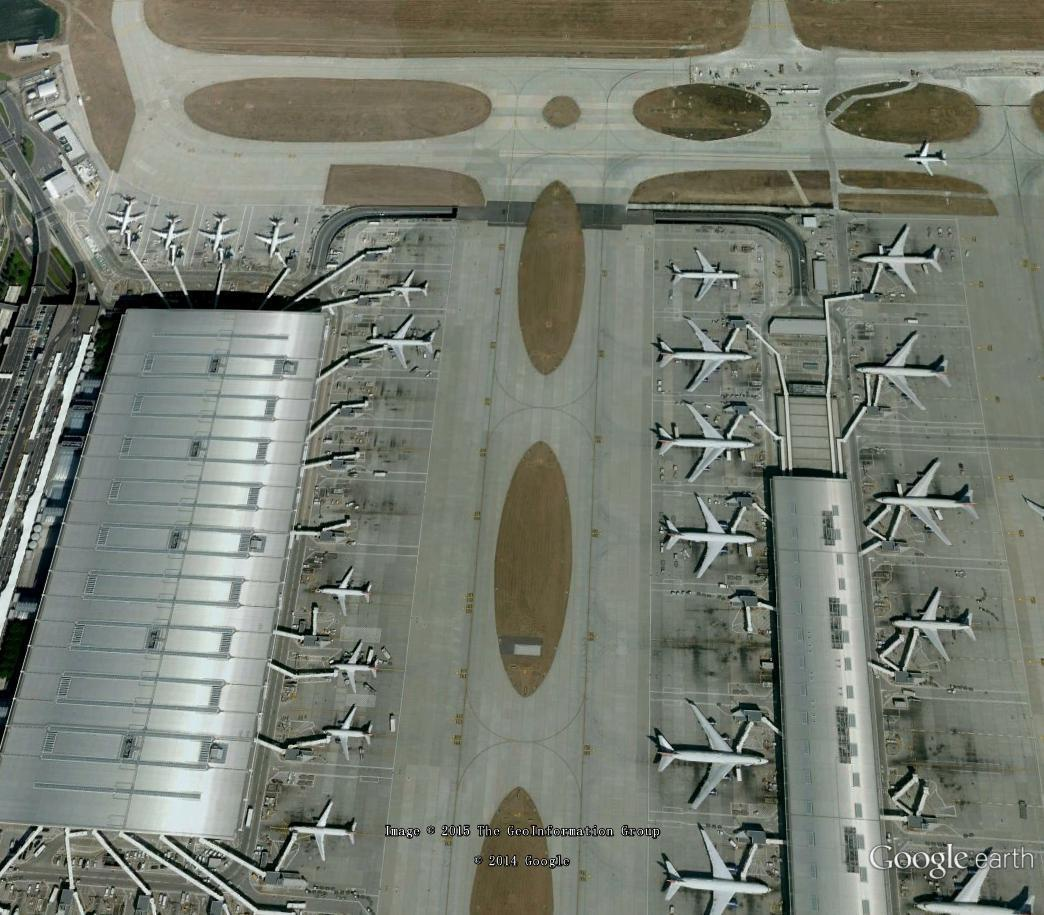aircraft: (654, 696, 774, 816), (661, 824, 773, 914), (872, 459, 983, 548), (661, 491, 762, 582), (653, 399, 759, 484), (853, 329, 956, 414), (655, 315, 757, 399), (891, 587, 978, 667), (856, 220, 947, 295), (286, 799, 361, 864), (363, 315, 439, 371), (669, 244, 742, 302), (319, 704, 376, 764), (328, 637, 381, 696), (317, 567, 376, 617), (252, 216, 298, 261), (196, 212, 242, 256), (105, 195, 148, 240), (904, 139, 950, 180), (387, 267, 431, 308), (150, 213, 190, 252)
